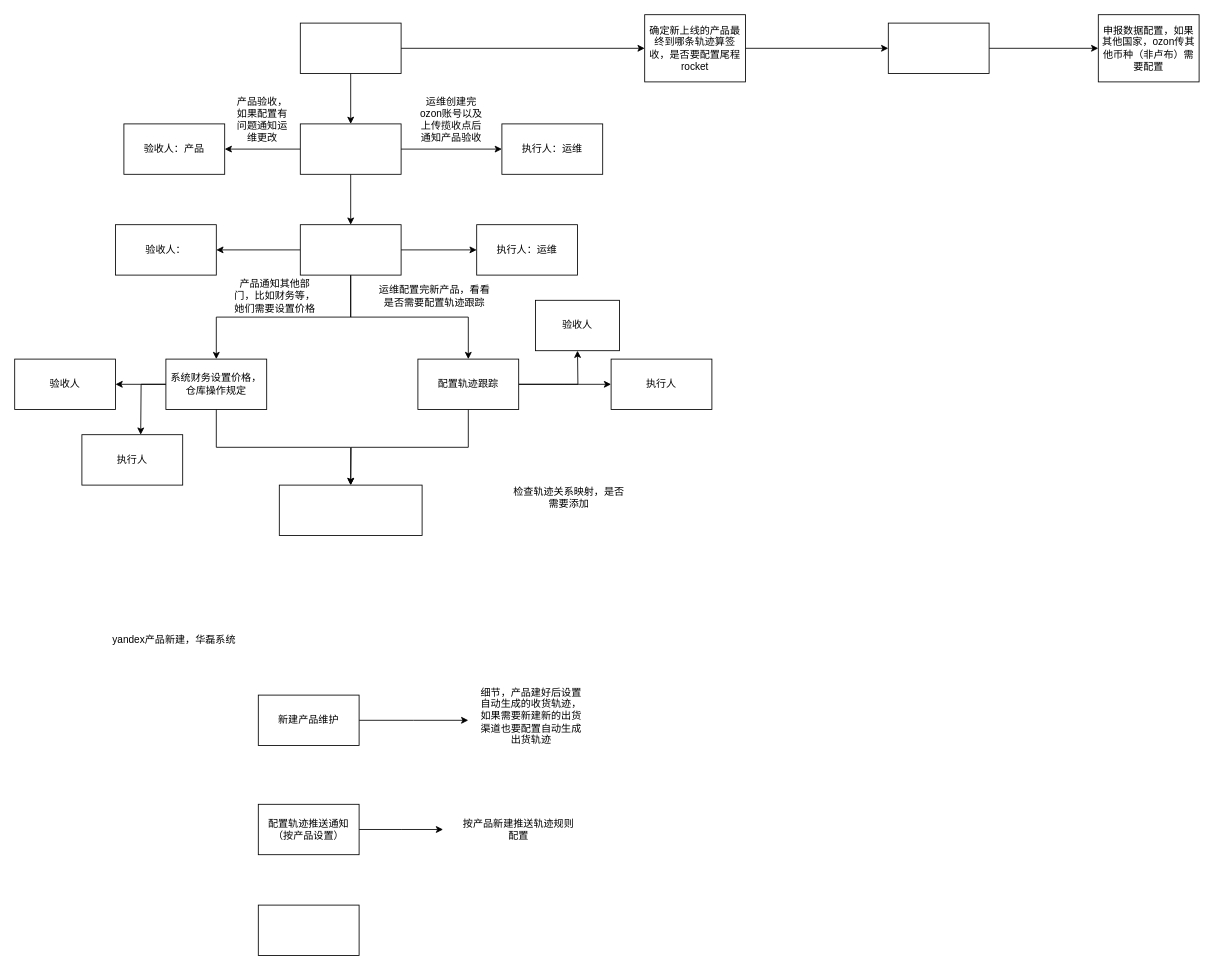
Some shapes in this 1214 by 970 pixel diagram are drawn without their labels. Here are the shapes that lost their labels. From the top down, the box of each, then its label:
(299, 22, 401, 74): 产品提出新建产品
(887, 22, 989, 74): 如果新建运输其他国家的产品，清关行轨迹是否有变化。
(299, 123, 401, 174): 新建ozon后台账号模版，以及上传揽收点
(299, 224, 401, 275): 系统配置新产品
(278, 484, 422, 536): 检查上线前的准备： 轨迹映射（各清关行轨迹映射） 产品配置
